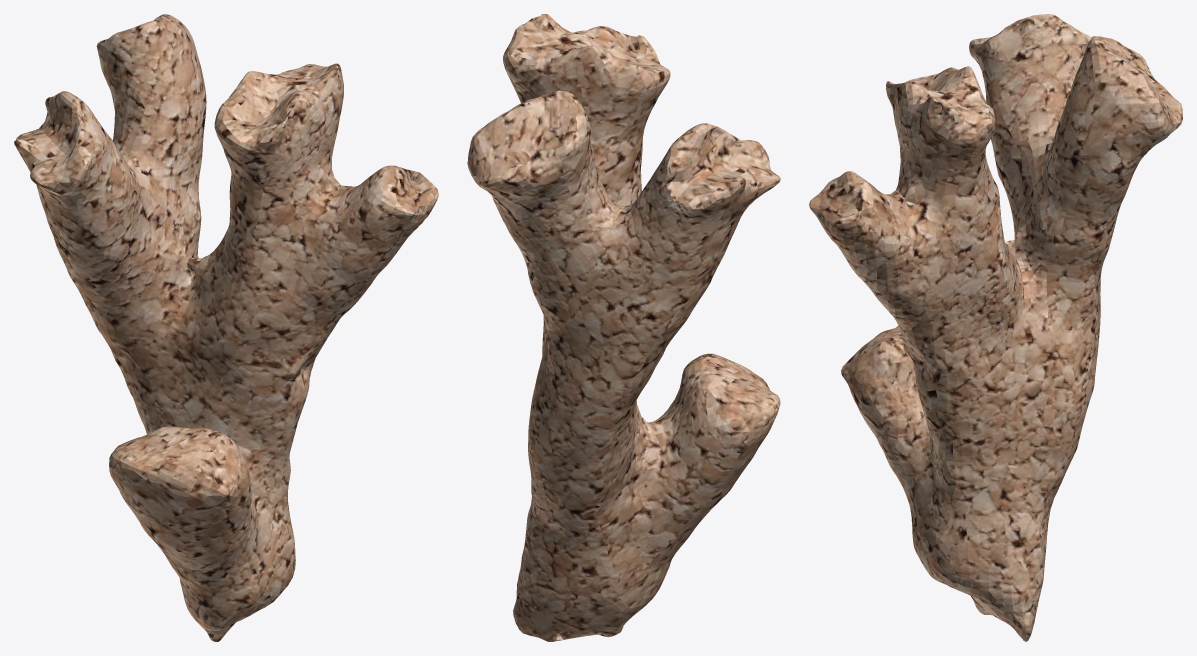
File: coral tree sand.glb
3 renders of one model, left to right at view 1: azimuth 30°, elevation 25°; view 2: azimuth 150°, elevation 25°; view 3: azimuth 270°, elevation 25°, orthographic. The views are drawn at different scales.
Visible parts, largest first — view 1: coral_9_watertight_small; view 2: coral_9_watertight_small; view 3: coral_9_watertight_small.
Part boxes in pixels (x1,y1,x2,y2): coral_9_watertight_small: (14, 14, 438, 641); coral_9_watertight_small: (467, 14, 780, 641); coral_9_watertight_small: (809, 14, 1182, 641).
Bounding box in the file's own units: 49.05 × 84.97 × 50.45.
1 material, 1 textured.
